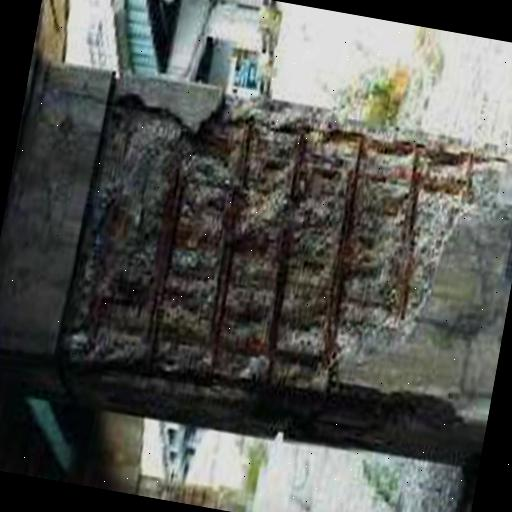spalling: (62, 70, 506, 440)
